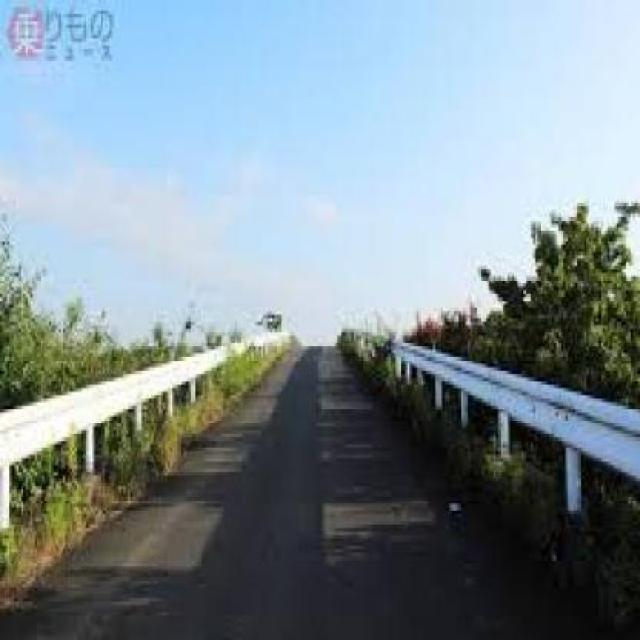Guard rail: (343, 322, 640, 540), (0, 324, 289, 536)
